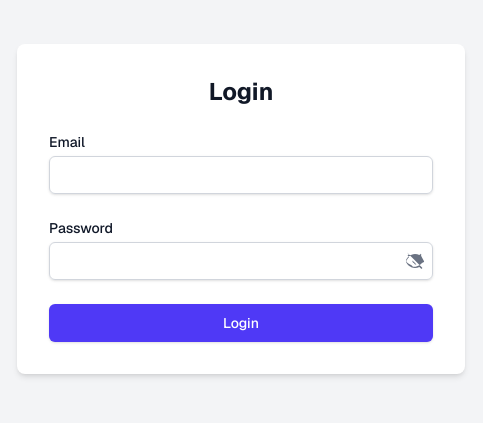
Test: LoginPage › should show password validation error when password is less than 6 characters
In the password field labelled "Password": (241, 261) [49,242,433,280], type "12345"
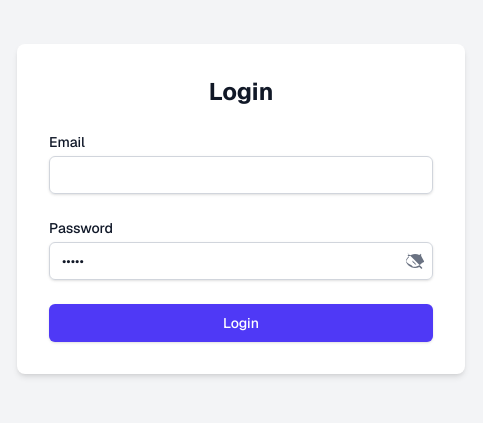
Click the button "Login": (241, 323) [49,304,433,342]
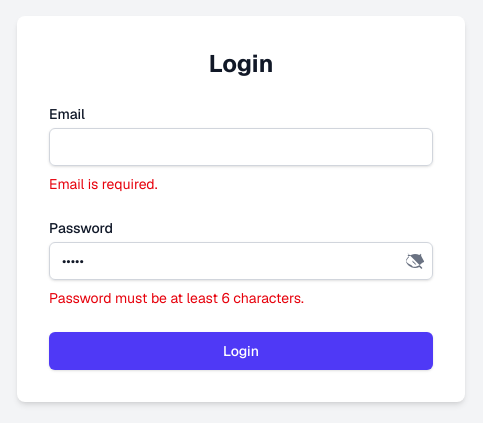
Now the text "Password must be at least 6 characters." is shown, box [49,289,304,307]
